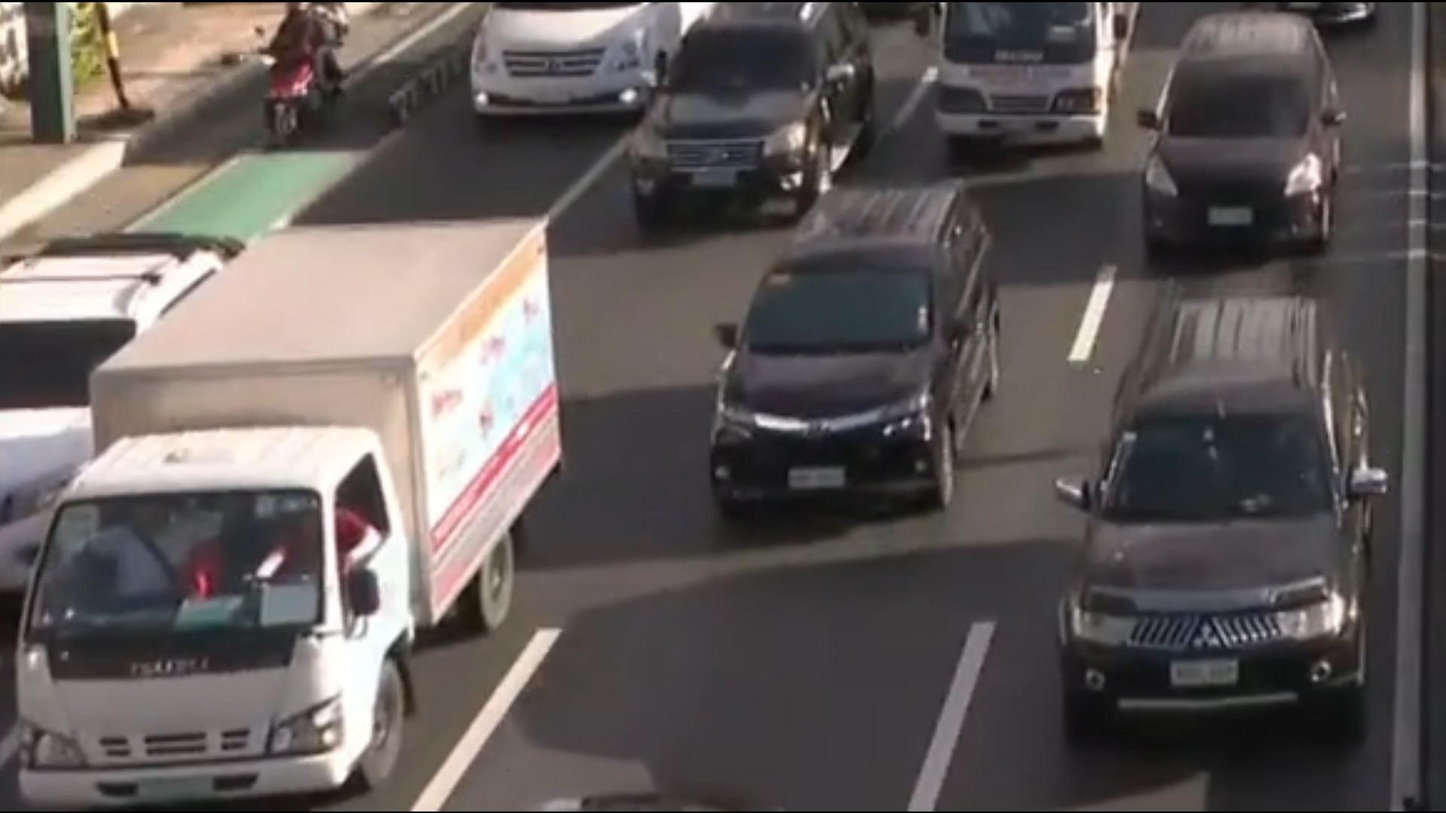Motorcycle: (230, 0, 381, 151)
Pickup: (0, 202, 264, 607)
SUV: (998, 286, 1437, 773), (633, 160, 1036, 548), (623, 0, 887, 244), (450, 0, 704, 140)
Truck: (0, 200, 610, 813), (1125, 0, 1382, 283), (923, 0, 1150, 149)
